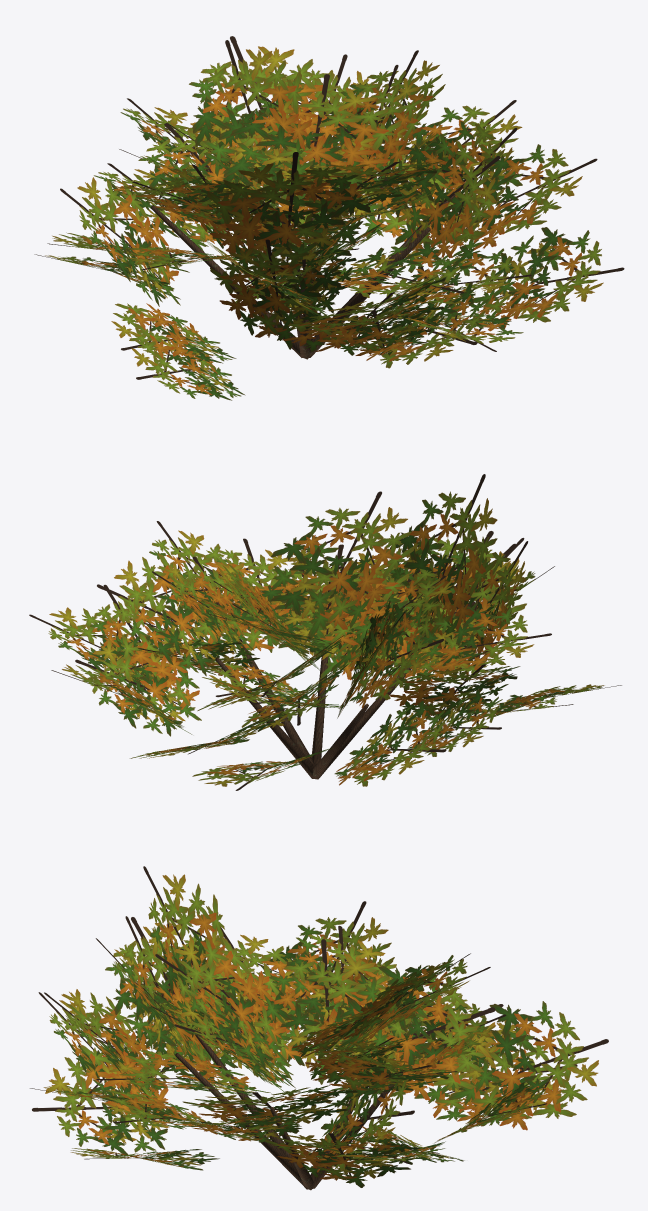
Rendered from shrub_autumn_green.glb.
3 views of the same model, one above another, from view 1: azimuth 30°, elevation 25°; view 2: azimuth 150°, elevation 25°; view 3: azimuth 270°, elevation 25° (orthographic). The views are drawn at different scales.
Parts seen in each view (by area): view 1: ShrubFoliage, ShrubTwigs; view 2: ShrubFoliage, ShrubTwigs; view 3: ShrubFoliage, ShrubTwigs.
Part boxes in pixels (box(x1,y1,x2,y2)): ShrubFoliage: box(34, 36, 624, 400); ShrubTwigs: box(151, 191, 455, 359); ShrubFoliage: box(29, 474, 621, 790); ShrubTwigs: box(215, 567, 433, 779); ShrubFoliage: box(30, 866, 608, 1187); ShrubTwigs: box(175, 1021, 403, 1190).
Bounding box in the file's own units: 3.22 × 1.71 × 3.41.
Materials: 2 (2 with a texture image).
